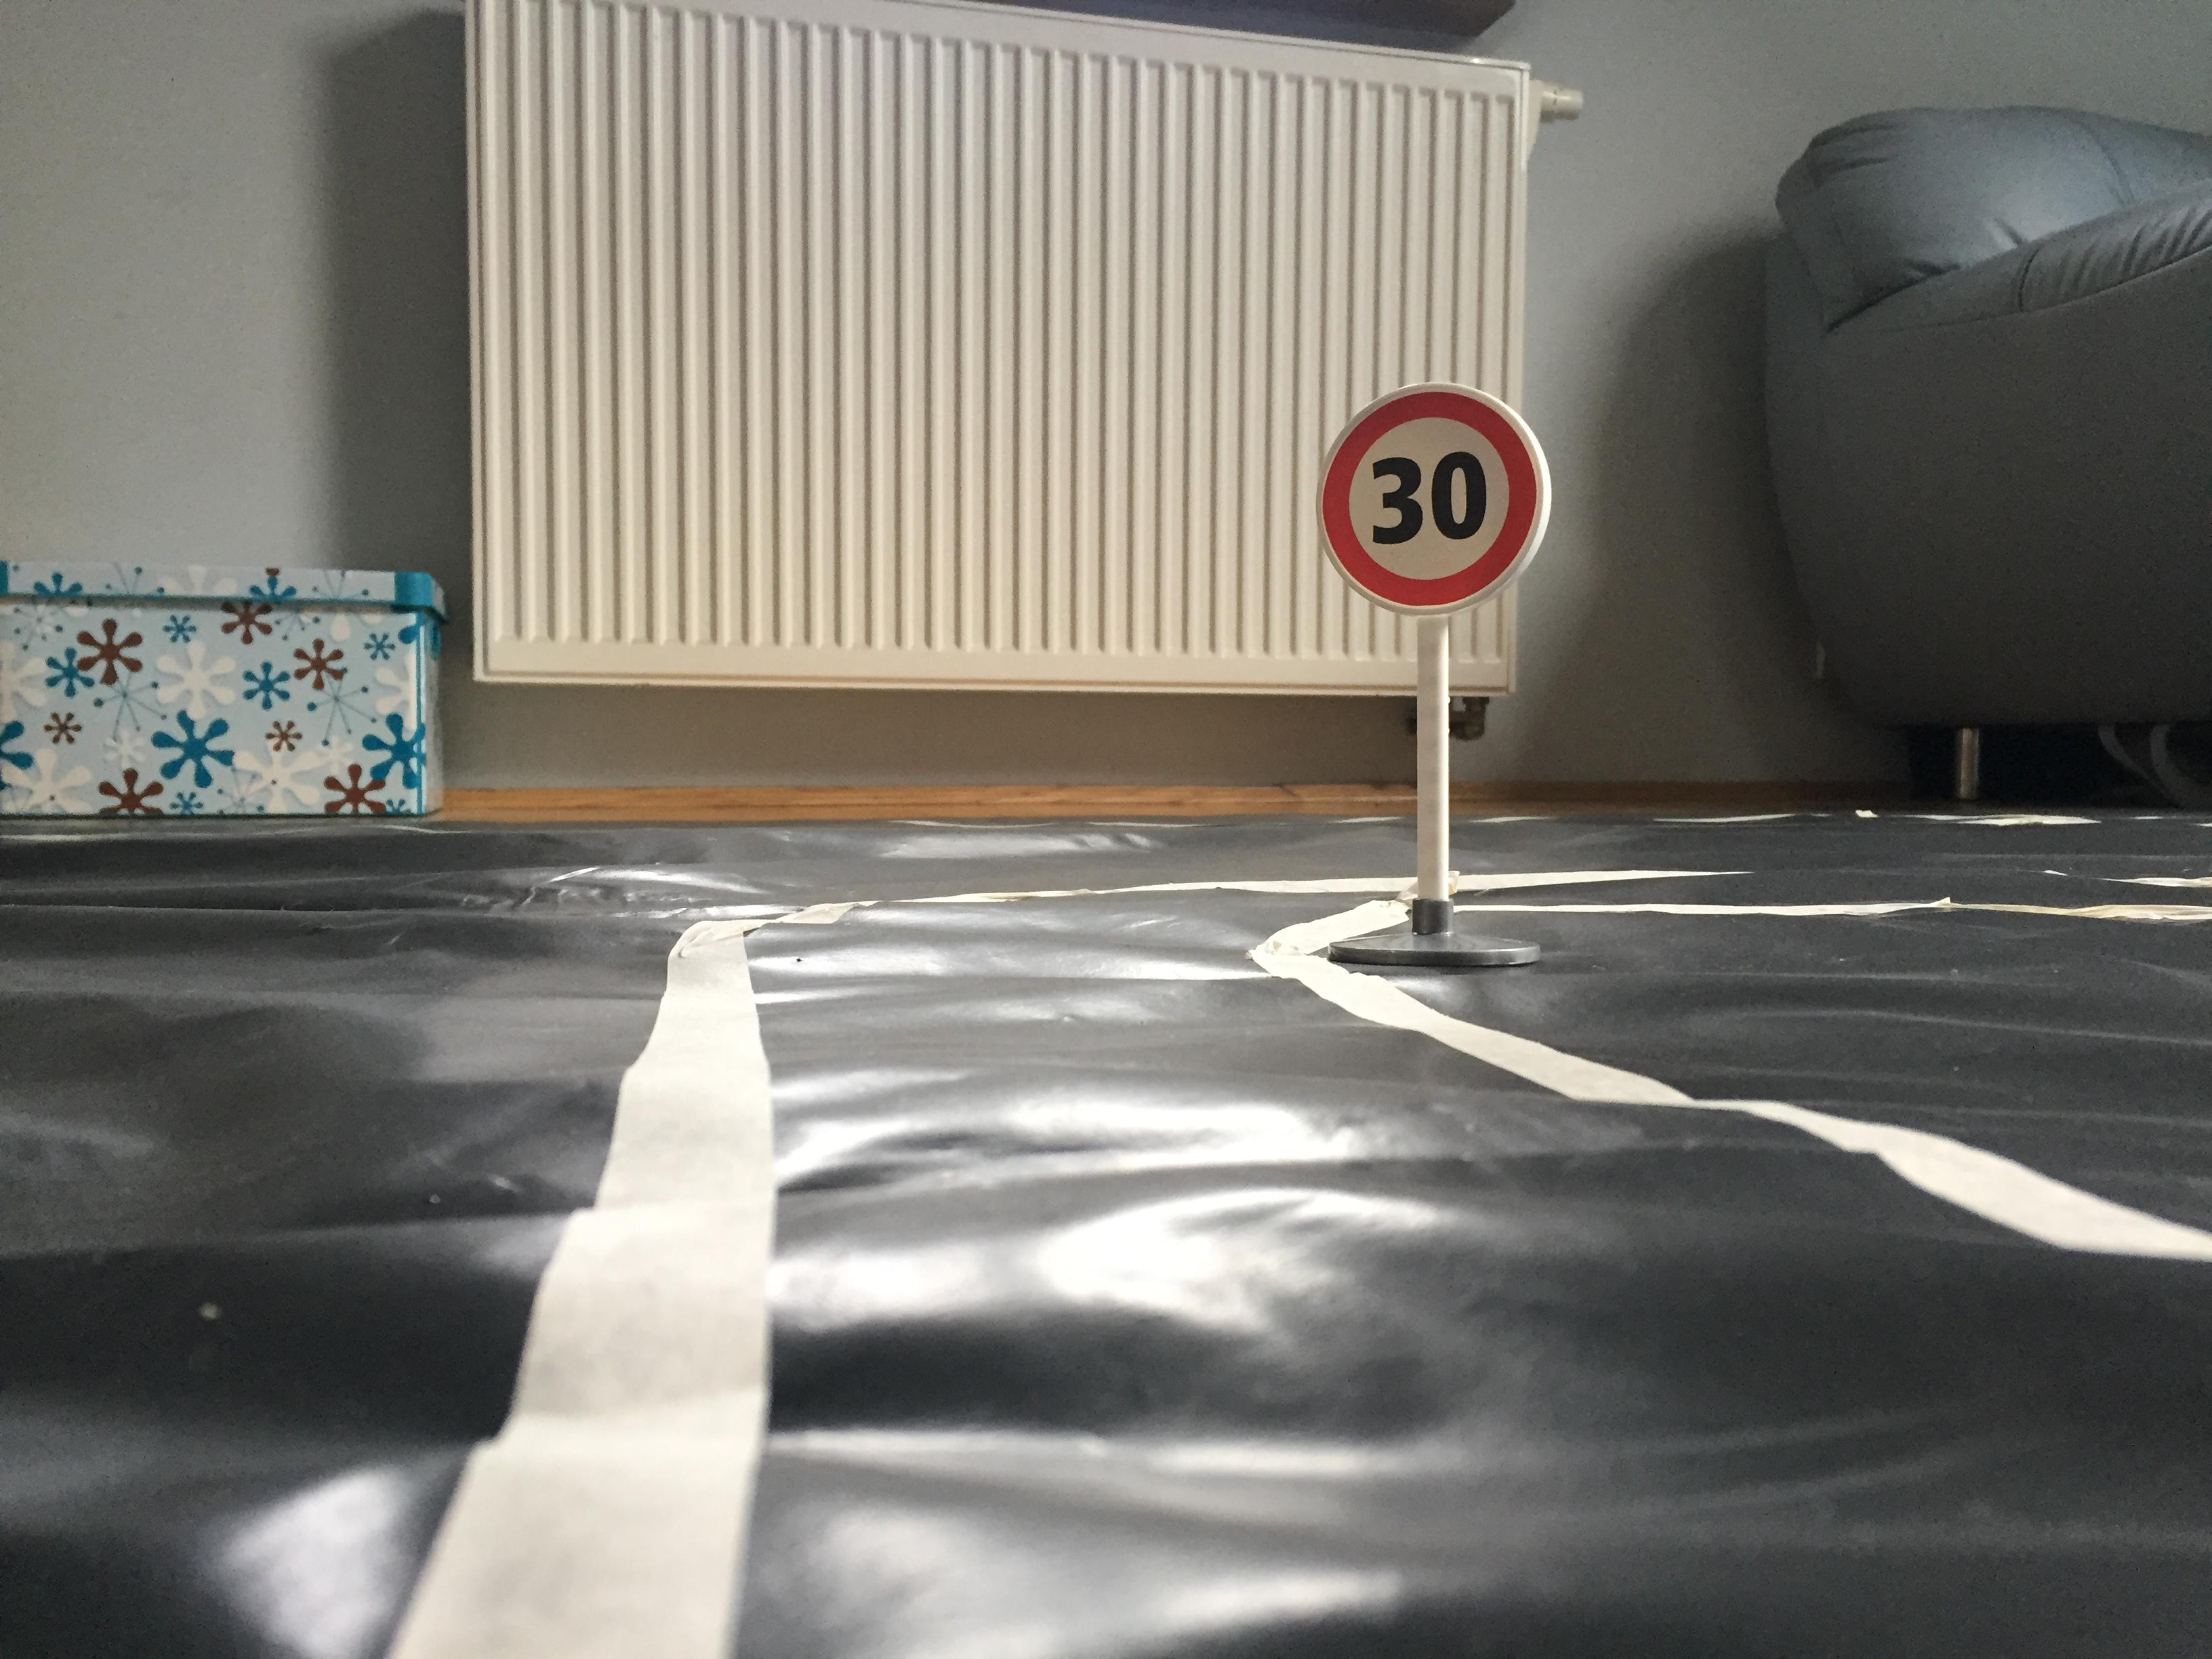speed: (1308, 378, 1559, 626)
